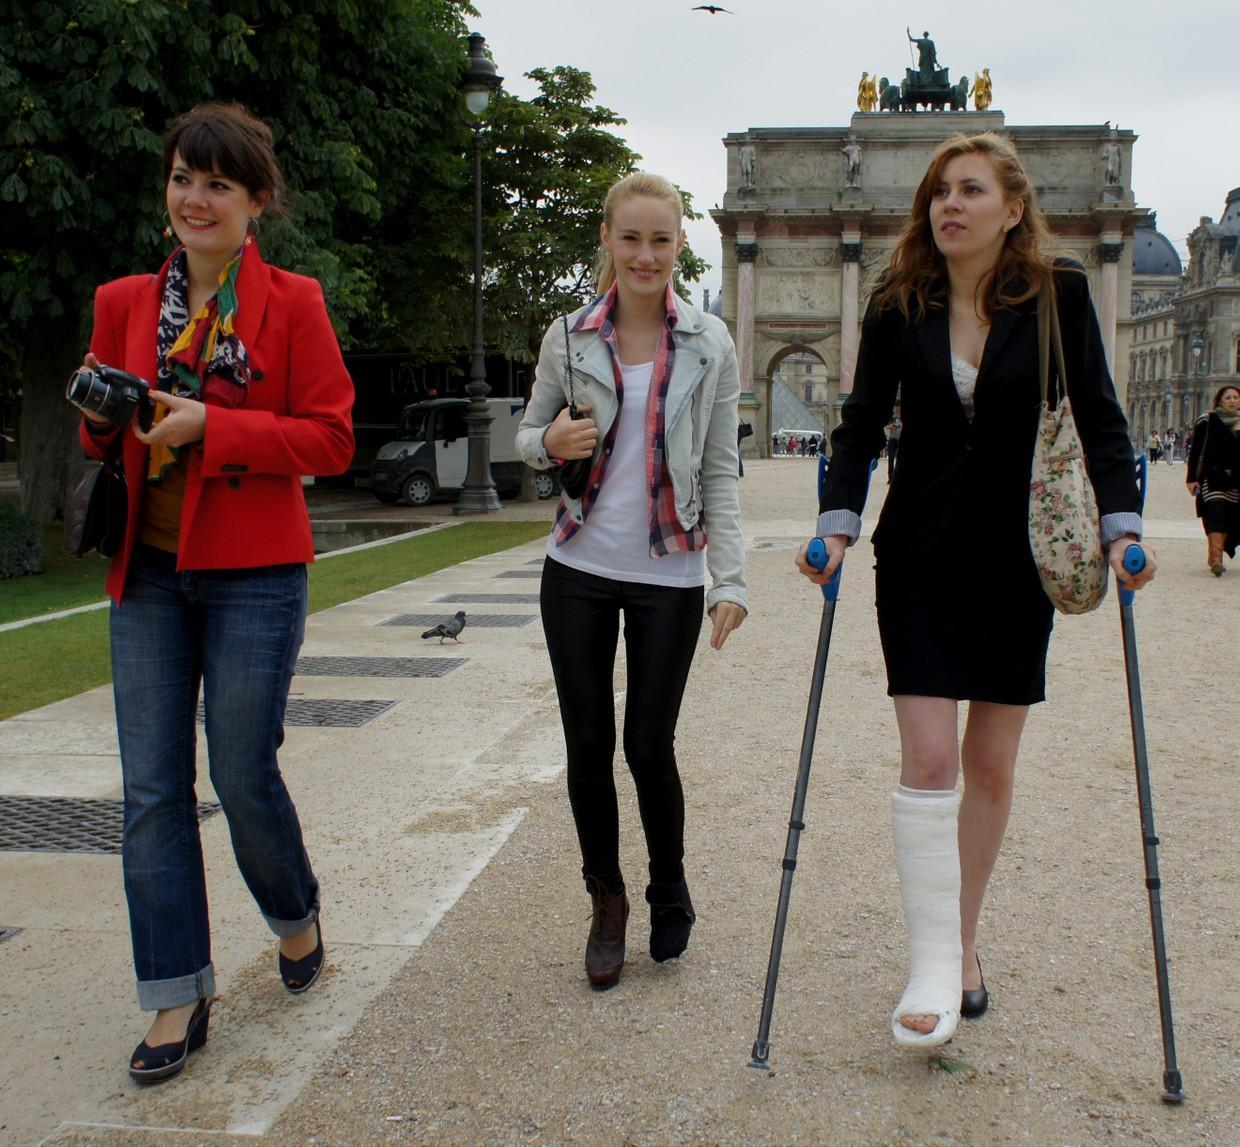crutches: (750, 132, 1188, 1108)
